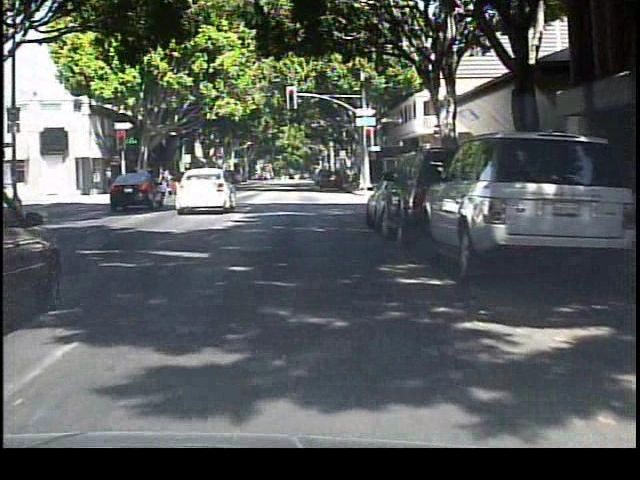person: (161, 163, 178, 203)
